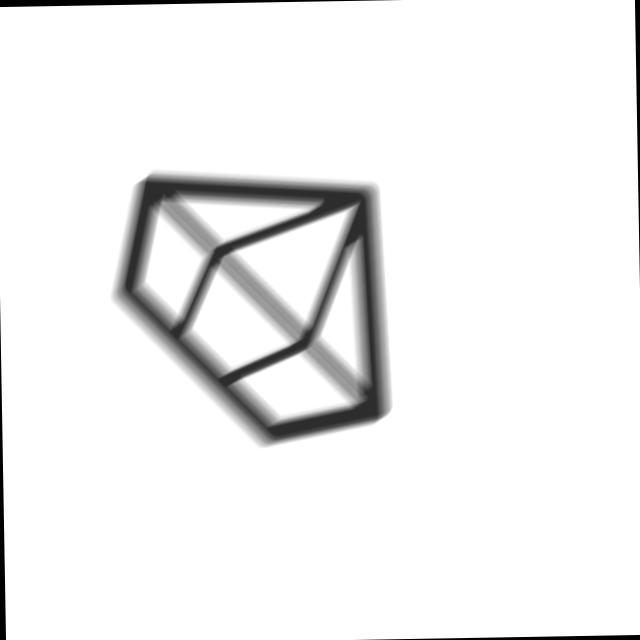diamond: (102, 160, 399, 457)
